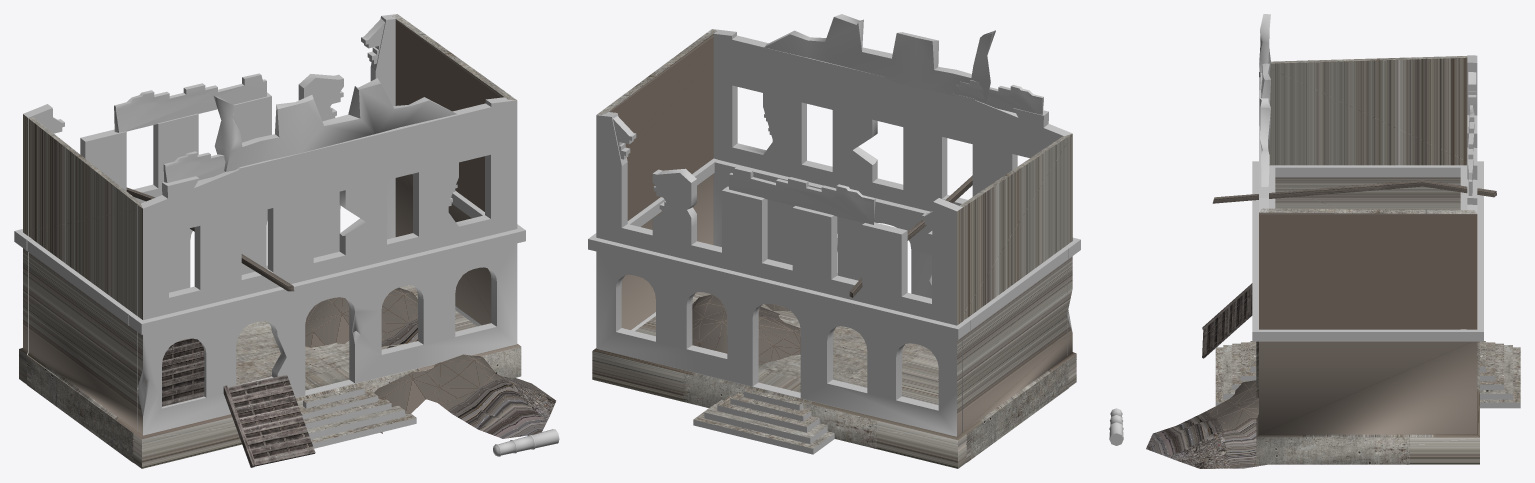
File: house yellow2_LOD1.fbx
3 renders of one model, left to right at view 1: azimuth 30°, elevation 25°; view 2: azimuth 150°, elevation 25°; view 3: azimuth 270°, elevation 25°, orthographic. The views are drawn at different scales.
Visible parts, largest first — view 1: house_yellow2_LOD1; view 2: house_yellow2_LOD1; view 3: house_yellow2_LOD1.
Boxes of the visible parts, box(x1,y1,x2,y2) form: house_yellow2_LOD1: box(14, 14, 559, 468); house_yellow2_LOD1: box(588, 14, 1080, 468); house_yellow2_LOD1: box(1109, 14, 1520, 468).
Size of the model in its own units: 9.29 by 8.07 by 9.41.
